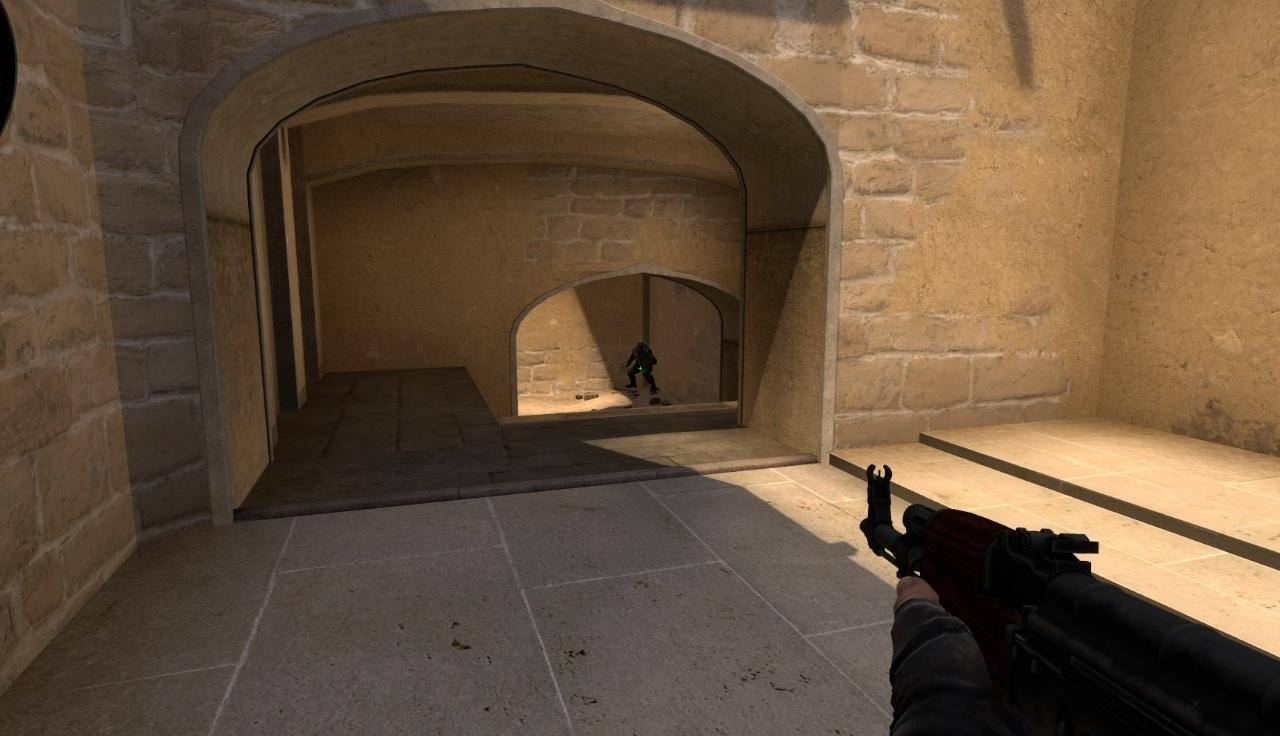ct: (626, 342, 657, 391)
cthead: (637, 342, 645, 353)
rifle: (862, 463, 1280, 736)
